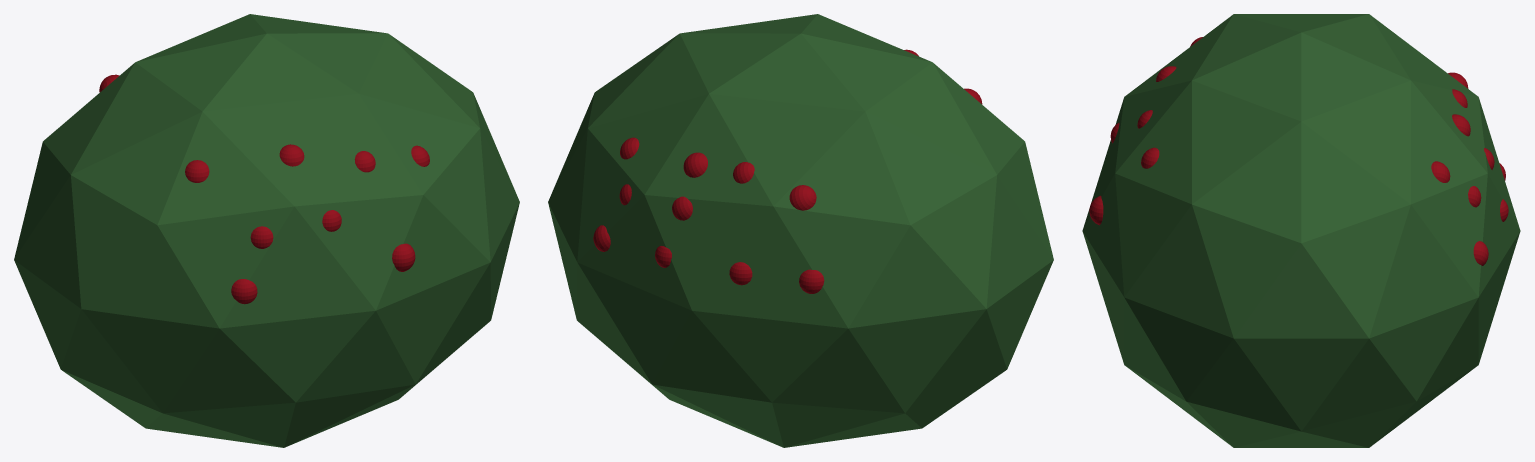
The model's file is berry_bush_wip.fbx.
3 views of the same model, side by side, from view 1: azimuth 30°, elevation 25°; view 2: azimuth 150°, elevation 25°; view 3: azimuth 270°, elevation 25° (orthographic).
Parts seen in each view (by area): view 1: Icosphere, Sphere.001, Sphere; view 2: Icosphere, Sphere.008, Sphere.014, Sphere.016; view 3: Icosphere.
Part boxes in pixels (x1,y1,x2,y2): Icosphere: [14, 14, 519, 447]; Sphere.001: [231, 279, 257, 304]; Sphere: [392, 243, 415, 271]; Icosphere: [548, 14, 1053, 447]; Sphere.008: [789, 185, 816, 210]; Sphere.014: [799, 269, 824, 293]; Sphere.016: [683, 152, 707, 177]; Icosphere: [1082, 14, 1520, 447].
Size of the model in its own units: 484 by 417 by 417.
